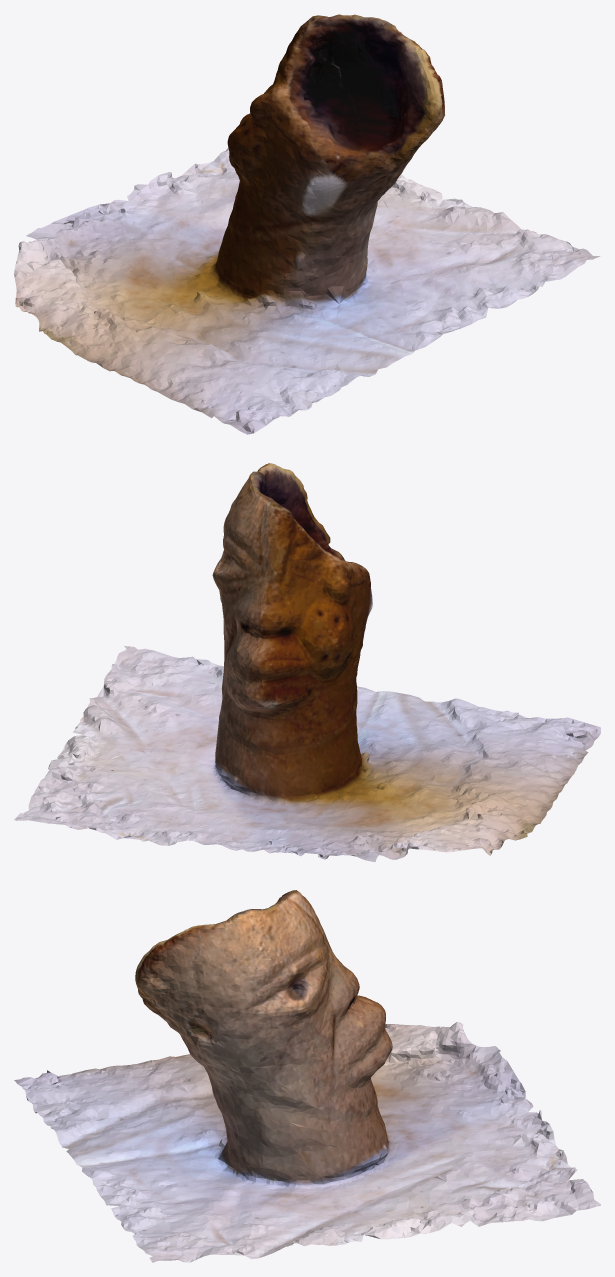
3 renders of one model, top to bottom at view 1: azimuth 30°, elevation 25°; view 2: azimuth 150°, elevation 25°; view 3: azimuth 270°, elevation 25°, orthographic. The views are drawn at different scales.
Bounding box in the file's own units: 0.2757 × 0.1517 × 0.2732.
1 material, 1 textured.
